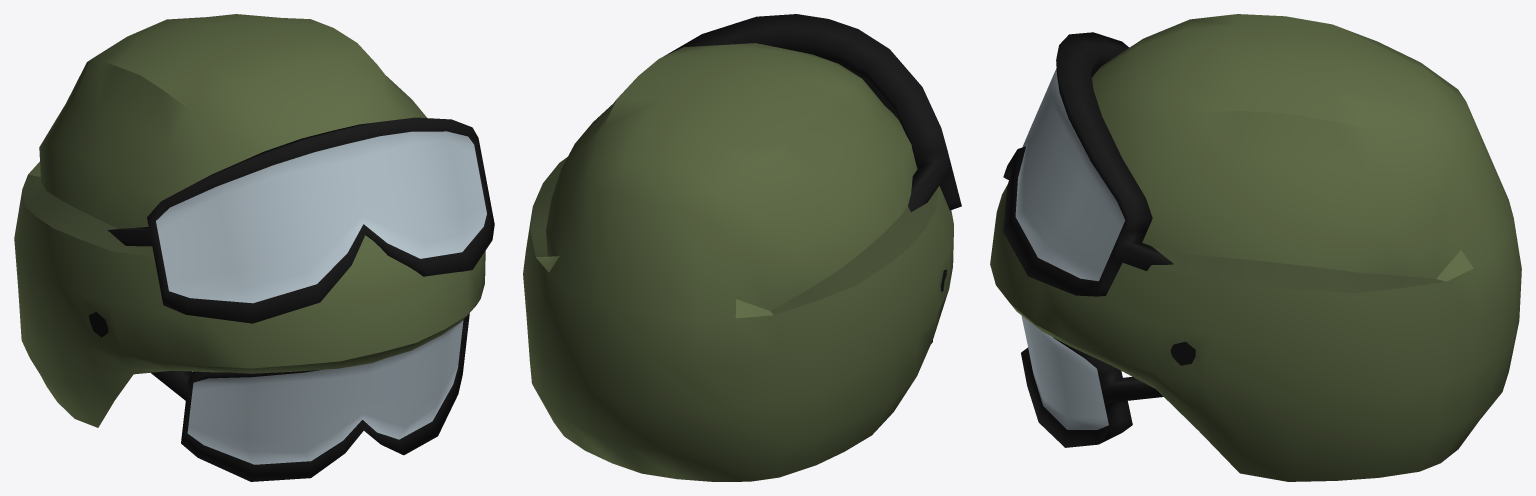
The model's file is militaryHelmet.fbx.
3 views of the same model, side by side, from view 1: azimuth 30°, elevation 25°; view 2: azimuth 150°, elevation 25°; view 3: azimuth 270°, elevation 25° (orthographic). The views are drawn at different scales.
Visible parts, largest first — view 1: militaryHelmet, militaryHelmetGogglesTop, militaryHelmetGogglesFront; view 2: militaryHelmet, militaryHelmetGogglesTop; view 3: militaryHelmet, militaryHelmetGogglesTop, militaryHelmetGogglesFront.
Boxes of the visible parts, x1,y1,x2,y2 form: militaryHelmet: (14, 14, 485, 427); militaryHelmetGogglesTop: (108, 117, 494, 323); militaryHelmetGogglesFront: (150, 313, 469, 481); militaryHelmet: (523, 43, 953, 481); militaryHelmetGogglesTop: (665, 14, 961, 211); militaryHelmet: (990, 14, 1521, 481); militaryHelmetGogglesTop: (1003, 32, 1173, 296); militaryHelmetGogglesFront: (1021, 315, 1163, 447).
Bounding box in the file's own units: 120 × 105 × 135.
